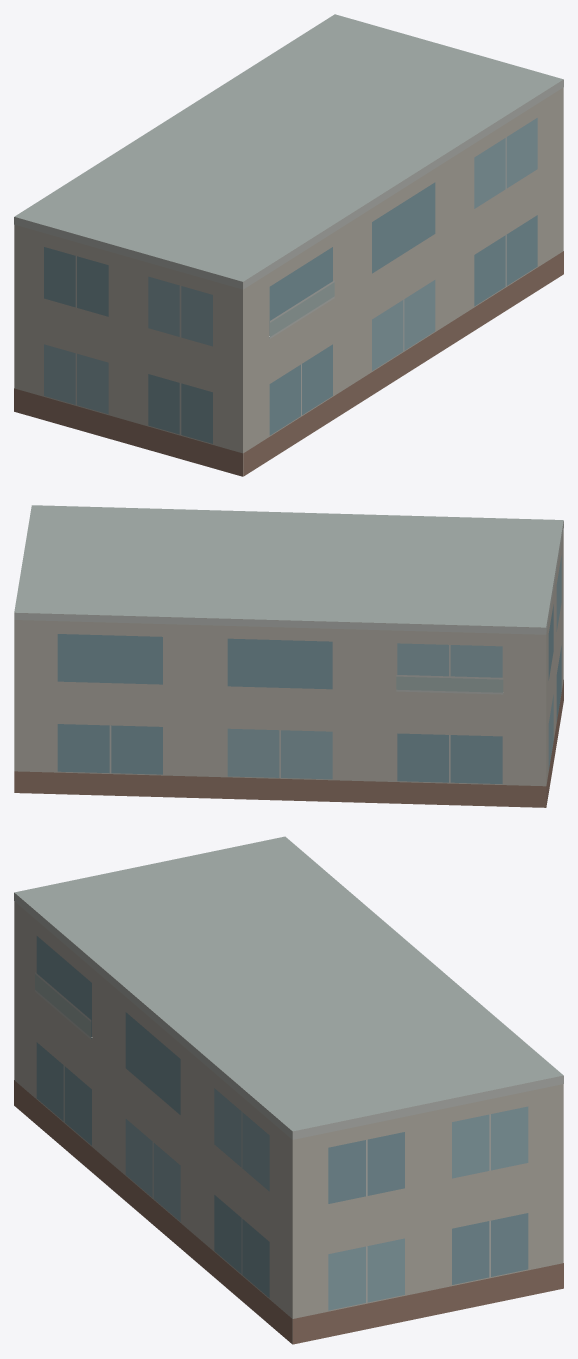
The model's file is survey-upis-32698016.glb.
3 renders of one model, top to bottom at view 1: azimuth 30°, elevation 25°; view 2: azimuth 150°, elevation 25°; view 3: azimuth 270°, elevation 25°, orthographic. The views are drawn at different scales.
Parts seen in each view (by area): view 1: survey-upis-32698016.tmp; view 2: survey-upis-32698016.tmp; view 3: survey-upis-32698016.tmp.
Part boxes in pixels (x1=…): survey-upis-32698016.tmp: x1=14, y1=14, x2=563, y2=476; survey-upis-32698016.tmp: x1=14, y1=505, x2=563, y2=807; survey-upis-32698016.tmp: x1=14, y1=836, x2=563, y2=1344.
Bounding box in the file's own units: 18.13 × 6.1 × 14.27.
